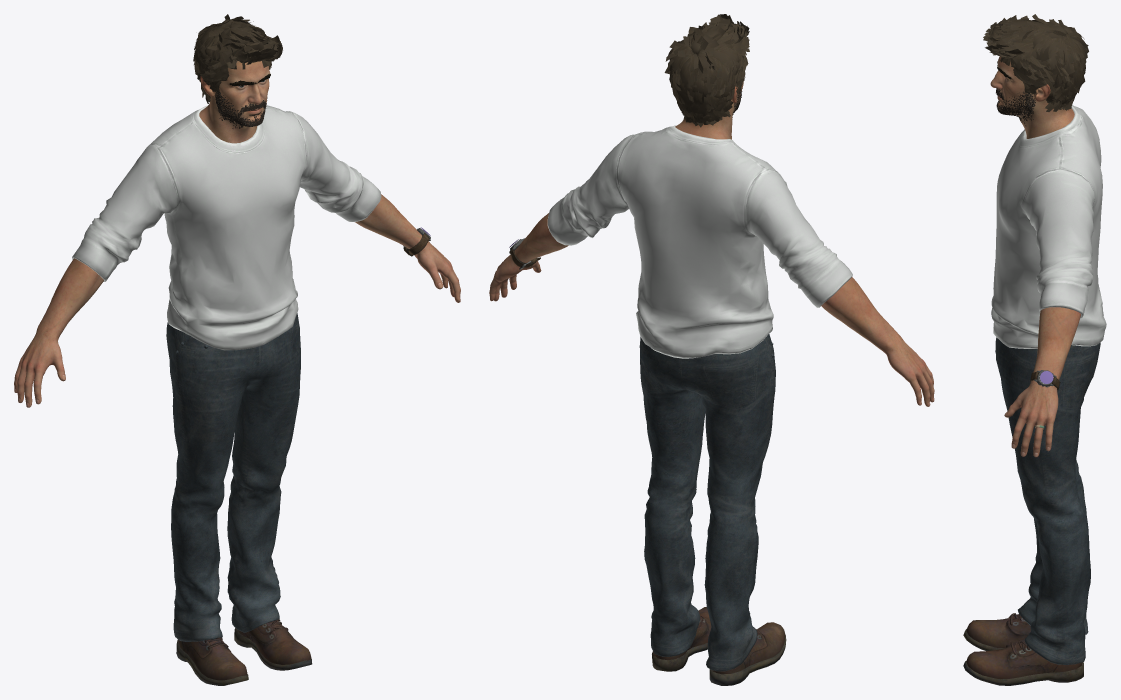
The model's file is sco_outro_ref.FBX.
The picture shows the model from 3 angles, left to right: view 1: azimuth 30°, elevation 25°; view 2: azimuth 150°, elevation 25°; view 3: azimuth 270°, elevation 25°; orthographic projection.
Visible parts, largest first — view 1: hero-kingsbay-shirt, hero-scotland-outro.004, hero-scotland-outro.006, hero-epilogue1.002, hero-epilogue-head.009, hero-epilogue1.001, hero-epilogue-head.022, hero-epilogue-head.011, hero-epilogue-head.020; view 2: hero-kingsbay-shirt, hero-scotland-outro.004, hero-epilogue1.002, hero-scotland-outro.006, hero-epilogue-head.011, hero-epilogue1.001, hero-epilogue-head.022, hero-epilogue-head.016, hero-epilogue-head.009, hero-epilogue-head.015; view 3: hero-kingsbay-shirt, hero-scotland-outro.004, hero-scotland-outro.006, hero-epilogue1.001, hero-epilogue-head.009, hero-epilogue-head.011, hero-epilogue-head.022, hero-epilogue-head.007, hero-epilogue-head.016, hero-epilogue-head.020, hero-epilogue-head.015, hero-epilogue-head.013 (+1 smaller).
Part boxes in pixels (x1,y1,x2,y2): hero-kingsbay-shirt: (72,105,381,350); hero-scotland-outro.004: (166,313,300,641); hero-scotland-outro.006: (176,619,312,685); hero-epilogue1.002: (14,258,103,407); hero-epilogue-head.009: (199,68,270,143); hero-epilogue1.001: (355,194,460,302); hero-epilogue-head.022: (193,16,281,103); hero-epilogue-head.011: (194,14,282,81); hero-epilogue-head.020: (197,25,278,91); hero-kingsbay-shirt: (547,125,852,358); hero-scotland-outro.004: (639,334,775,671); hero-epilogue1.002: (821,277,934,406); hero-scotland-outro.006: (652,607,786,685); hero-epilogue-head.011: (664,14,749,119); hero-epilogue1.001: (489,213,568,301); hero-epilogue-head.022: (665,21,748,121); hero-epilogue-head.016: (667,57,738,127); hero-epilogue-head.009: (675,81,743,139); hero-epilogue-head.015: (670,34,742,104); hero-kingsbay-shirt: (991,105,1106,348); hero-scotland-outro.004: (995,337,1100,664); hero-scotland-outro.006: (963,613,1083,685); hero-epilogue1.001: (1004,307,1080,457); hero-epilogue-head.009: (990,56,1074,138); hero-epilogue-head.011: (986,14,1088,109); hero-epilogue-head.022: (983,18,1087,111); hero-epilogue-head.007: (996,88,1035,125); hero-epilogue-head.016: (1046,39,1087,110); hero-epilogue-head.020: (988,20,1067,109); hero-epilogue-head.015: (1004,20,1085,88); hero-epilogue-head.013: (989,27,1049,65).
Size of the model in its own units: 54.16 by 75.17 by 15.19.
